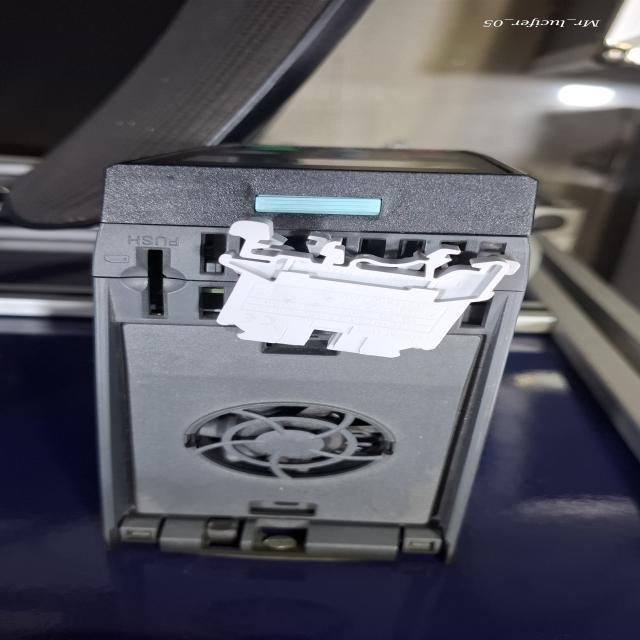Inverted: (212, 218, 522, 362)
